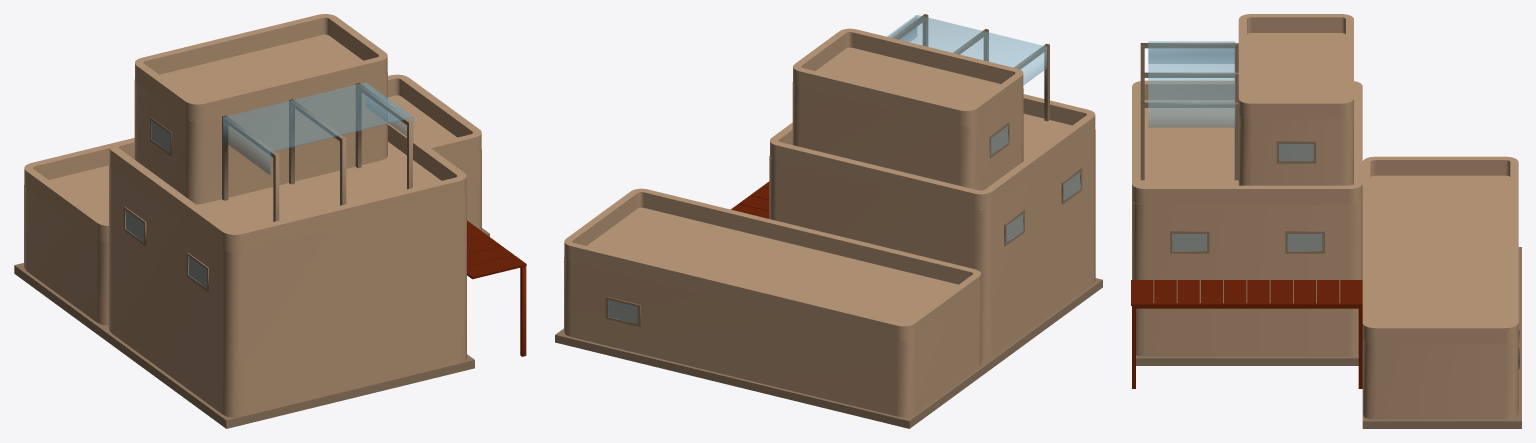
Rendered from Desert Houses.glb.
3 renders of one model, left to right at view 1: azimuth 30°, elevation 25°; view 2: azimuth 150°, elevation 25°; view 3: azimuth 270°, elevation 25°, orthographic. The views are drawn at different scales.
Parts seen in each view (by area): view 1: Root; view 2: Root; view 3: Root.
Part boxes in pixels (x1,y1,x2,y2): Root: [14, 14, 526, 428]; Root: [555, 14, 1102, 428]; Root: [1131, 14, 1521, 428].
Size of the model in its own units: 10.18 by 6.85 by 9.64.
